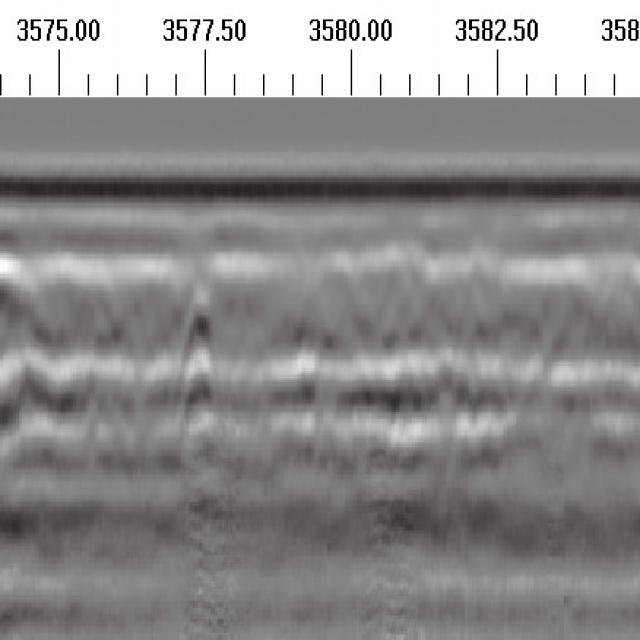crack: (186, 293, 214, 597)
